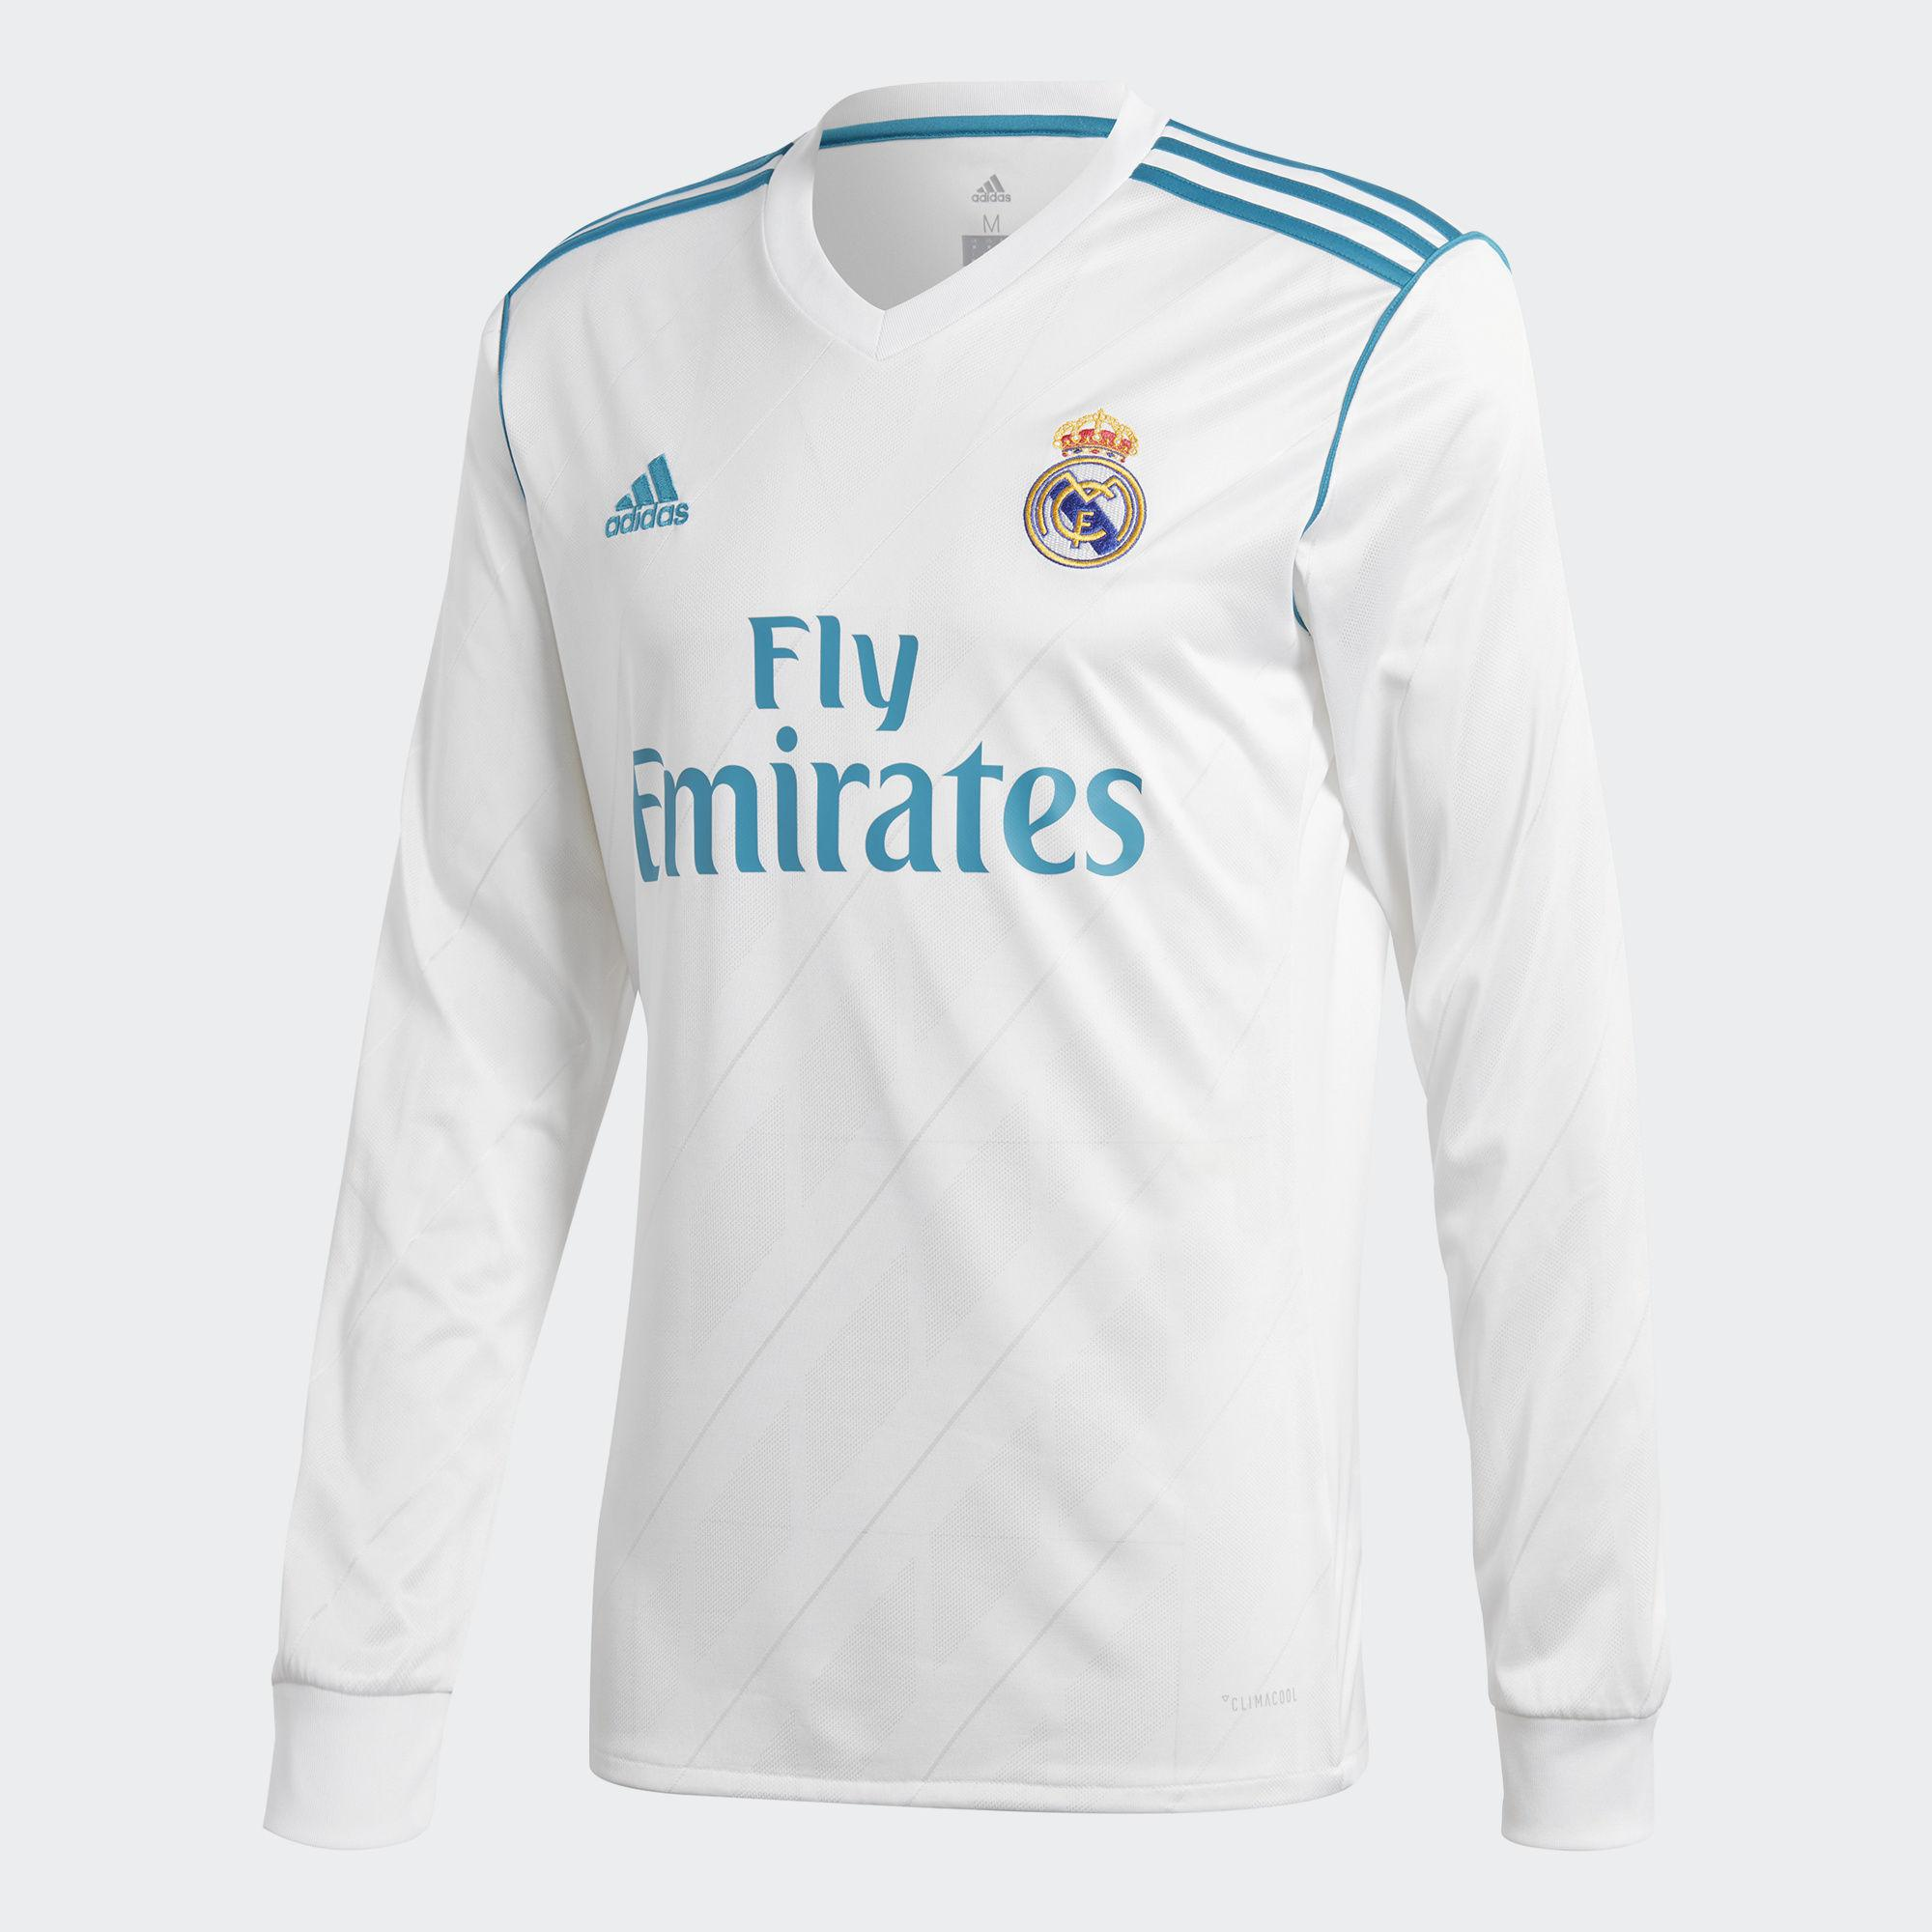teeshirt: (241, 78, 1707, 1930)
